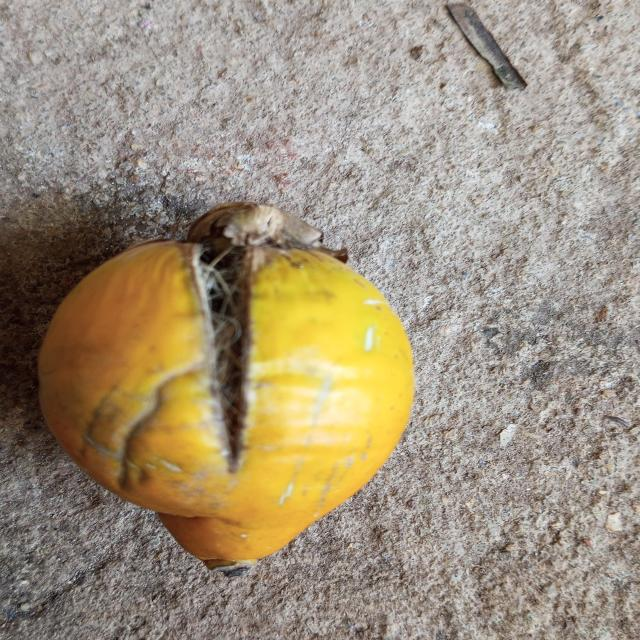damaged: (39, 201, 413, 575)
